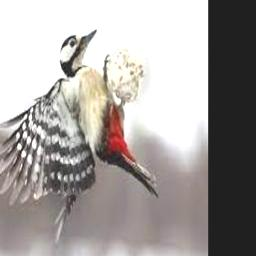Woodpecker: (0, 29, 159, 241)
